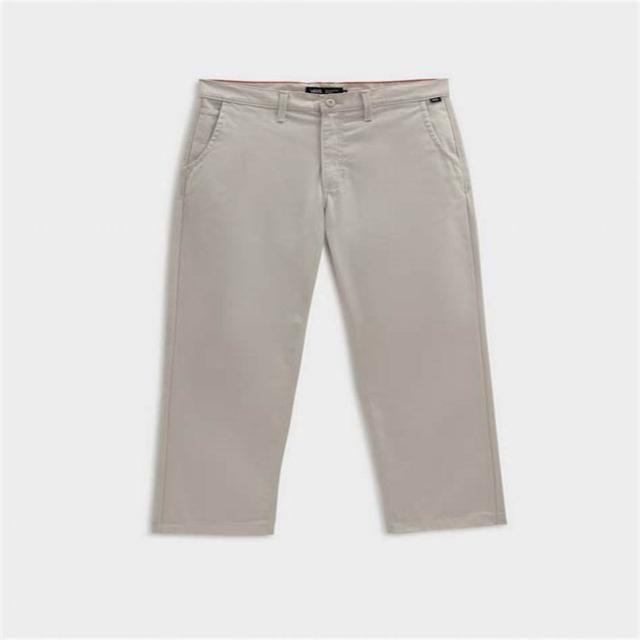long-pants: (147, 77, 507, 539)
